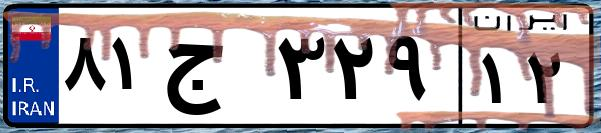1: (475, 38, 525, 113), (110, 28, 158, 98)
2: (330, 28, 385, 110), (525, 38, 570, 115)
3: (270, 28, 330, 110)
8: (57, 26, 110, 100)
9: (385, 28, 445, 110)
ج: (158, 20, 270, 120)
